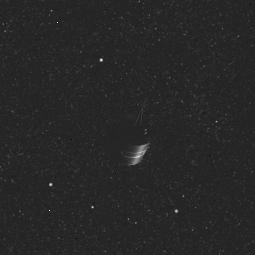double_start: (100, 100, 155, 172)
